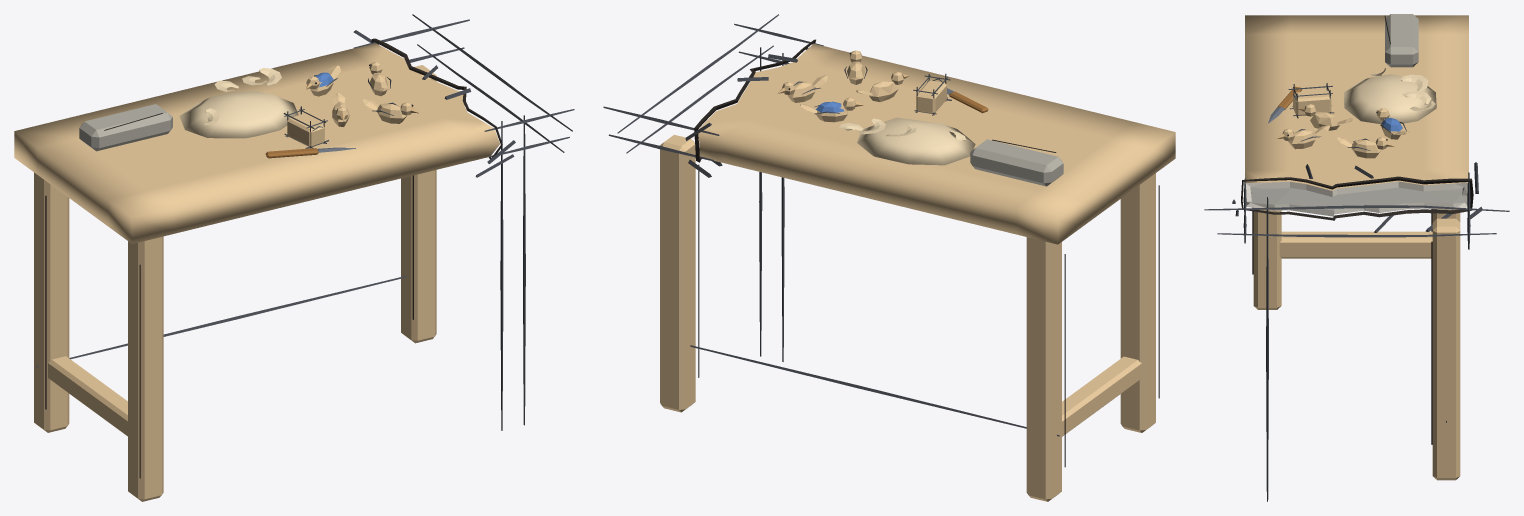
Rendered from KidWorkbench.fbx.
3 views of the same model, side by side, from view 1: azimuth 30°, elevation 25°; view 2: azimuth 150°, elevation 25°; view 3: azimuth 270°, elevation 25° (orthographic). The views are drawn at different scales.
Visible parts, largest first — view 1: Bench, Lines, Birds; view 2: Bench, Lines, Birds; view 3: Bench, Lines, Birds.
Boxes of the visible parts, bbox=[...] form: Bench: bbox=[14, 43, 499, 501]; Lines: bbox=[36, 14, 574, 478]; Birds: bbox=[287, 62, 418, 146]; Bench: bbox=[660, 44, 1175, 501]; Lines: bbox=[603, 14, 1159, 467]; Birds: bbox=[778, 50, 946, 122]; Bench: bbox=[1245, 14, 1468, 480]; Lines: bbox=[1204, 16, 1509, 501]; Birds: bbox=[1277, 90, 1409, 158].
Bounding box in the file's own units: 0.8924 × 0.6414 × 0.5454.
